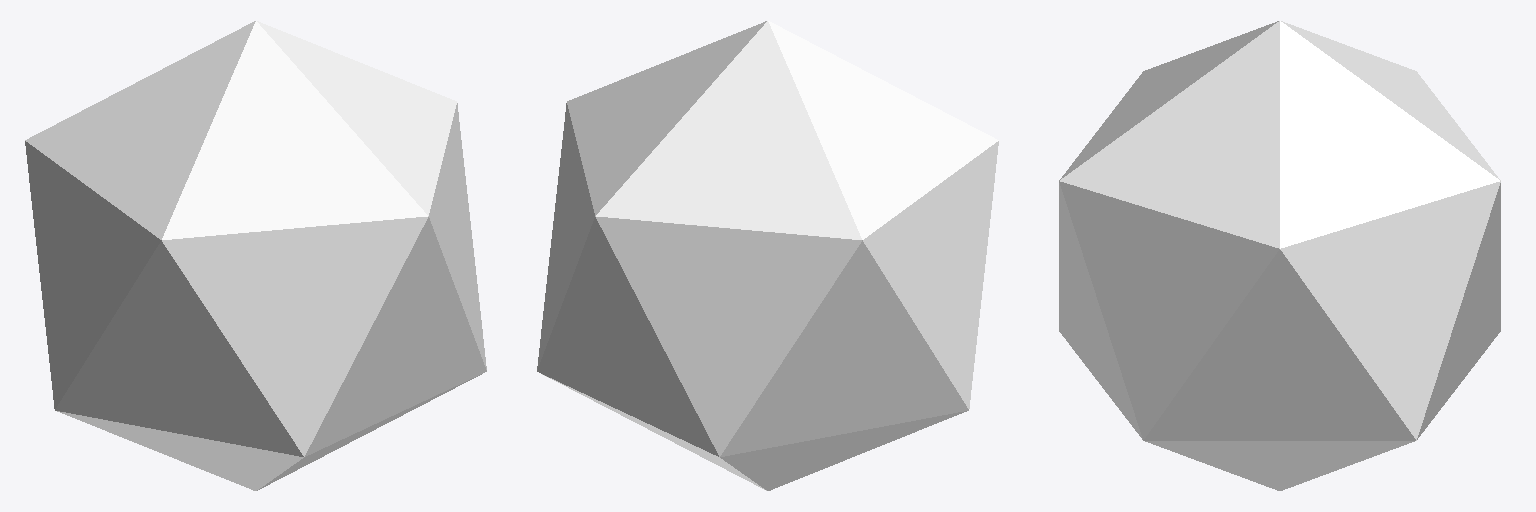
robot.urdf — sphere.urdf:
<?xml version="1.0" ?>
<robot name="sphere.urdf">
  <link name="baseLink">

    <inertial>
      <origin rpy="0 0 0" xyz="0 0 0"/>
       <mass value="0.0"/>
       <inertia ixx="0" ixy="0" ixz="0" iyy="0" iyz="0" izz="0"/>
    </inertial>
    <visual>
      <origin rpy="0 0 0" xyz="0 0 0"/>
      <geometry>
        <mesh filename="sphere.obj" scale="1.0 1.0 1.0"/>
      </geometry>
      <material name="white">
       <color rgba="1 1 1 1"/>
     </material>
    </visual>
    <collision>
      <origin rpy="0 0 0" xyz="0 0 0"/>
      <geometry>
        <mesh filename="sphere.obj" scale="1.0 1.0 1.0"/>
        <!-- You could also specify the collision (for the sphere) with a "box" tag: -->
        <!-- <box size=".06 .06 .06"/> -->
      </geometry>
    </collision>
  </link>
</robot>
        

--- Render facts (derived) ---
3 views of the same robot in one strip: view 1: azimuth 30°, elevation 25°; view 2: azimuth 150°, elevation 25°; view 3: azimuth 270°, elevation 25° (orthographic).
Model sphere.urdf with 1 links and 0 joints (none), rooted at baseLink, posed all joints at 0.
Links seen in each view (by area): view 1: baseLink; view 2: baseLink; view 3: baseLink.
Boxes of the visible links, <box> form: baseLink: <box>25,21,486,490</box>; baseLink: <box>537,21,998,490</box>; baseLink: <box>1059,21,1500,490</box>.
Size in the robot's own frame: 1.07 by 1.02 by 1.2 metres.
Meshes: 1 distinct files referenced, 1 mesh visuals loaded (1 OBJ).